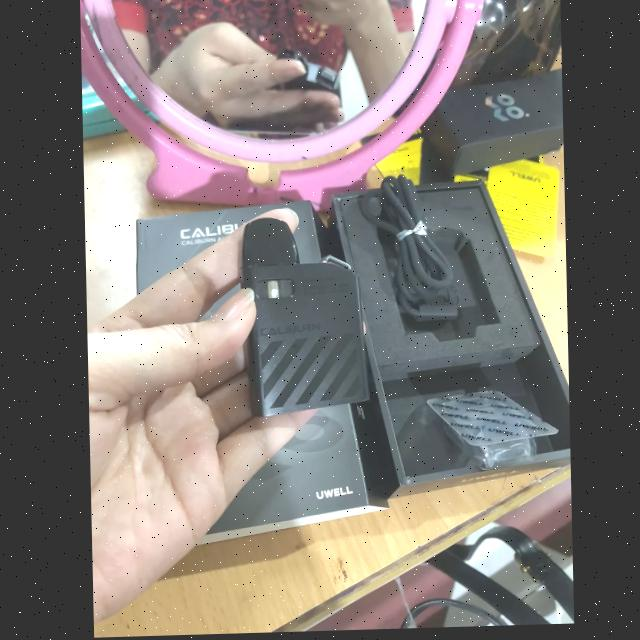vape: (236, 213, 369, 419)
